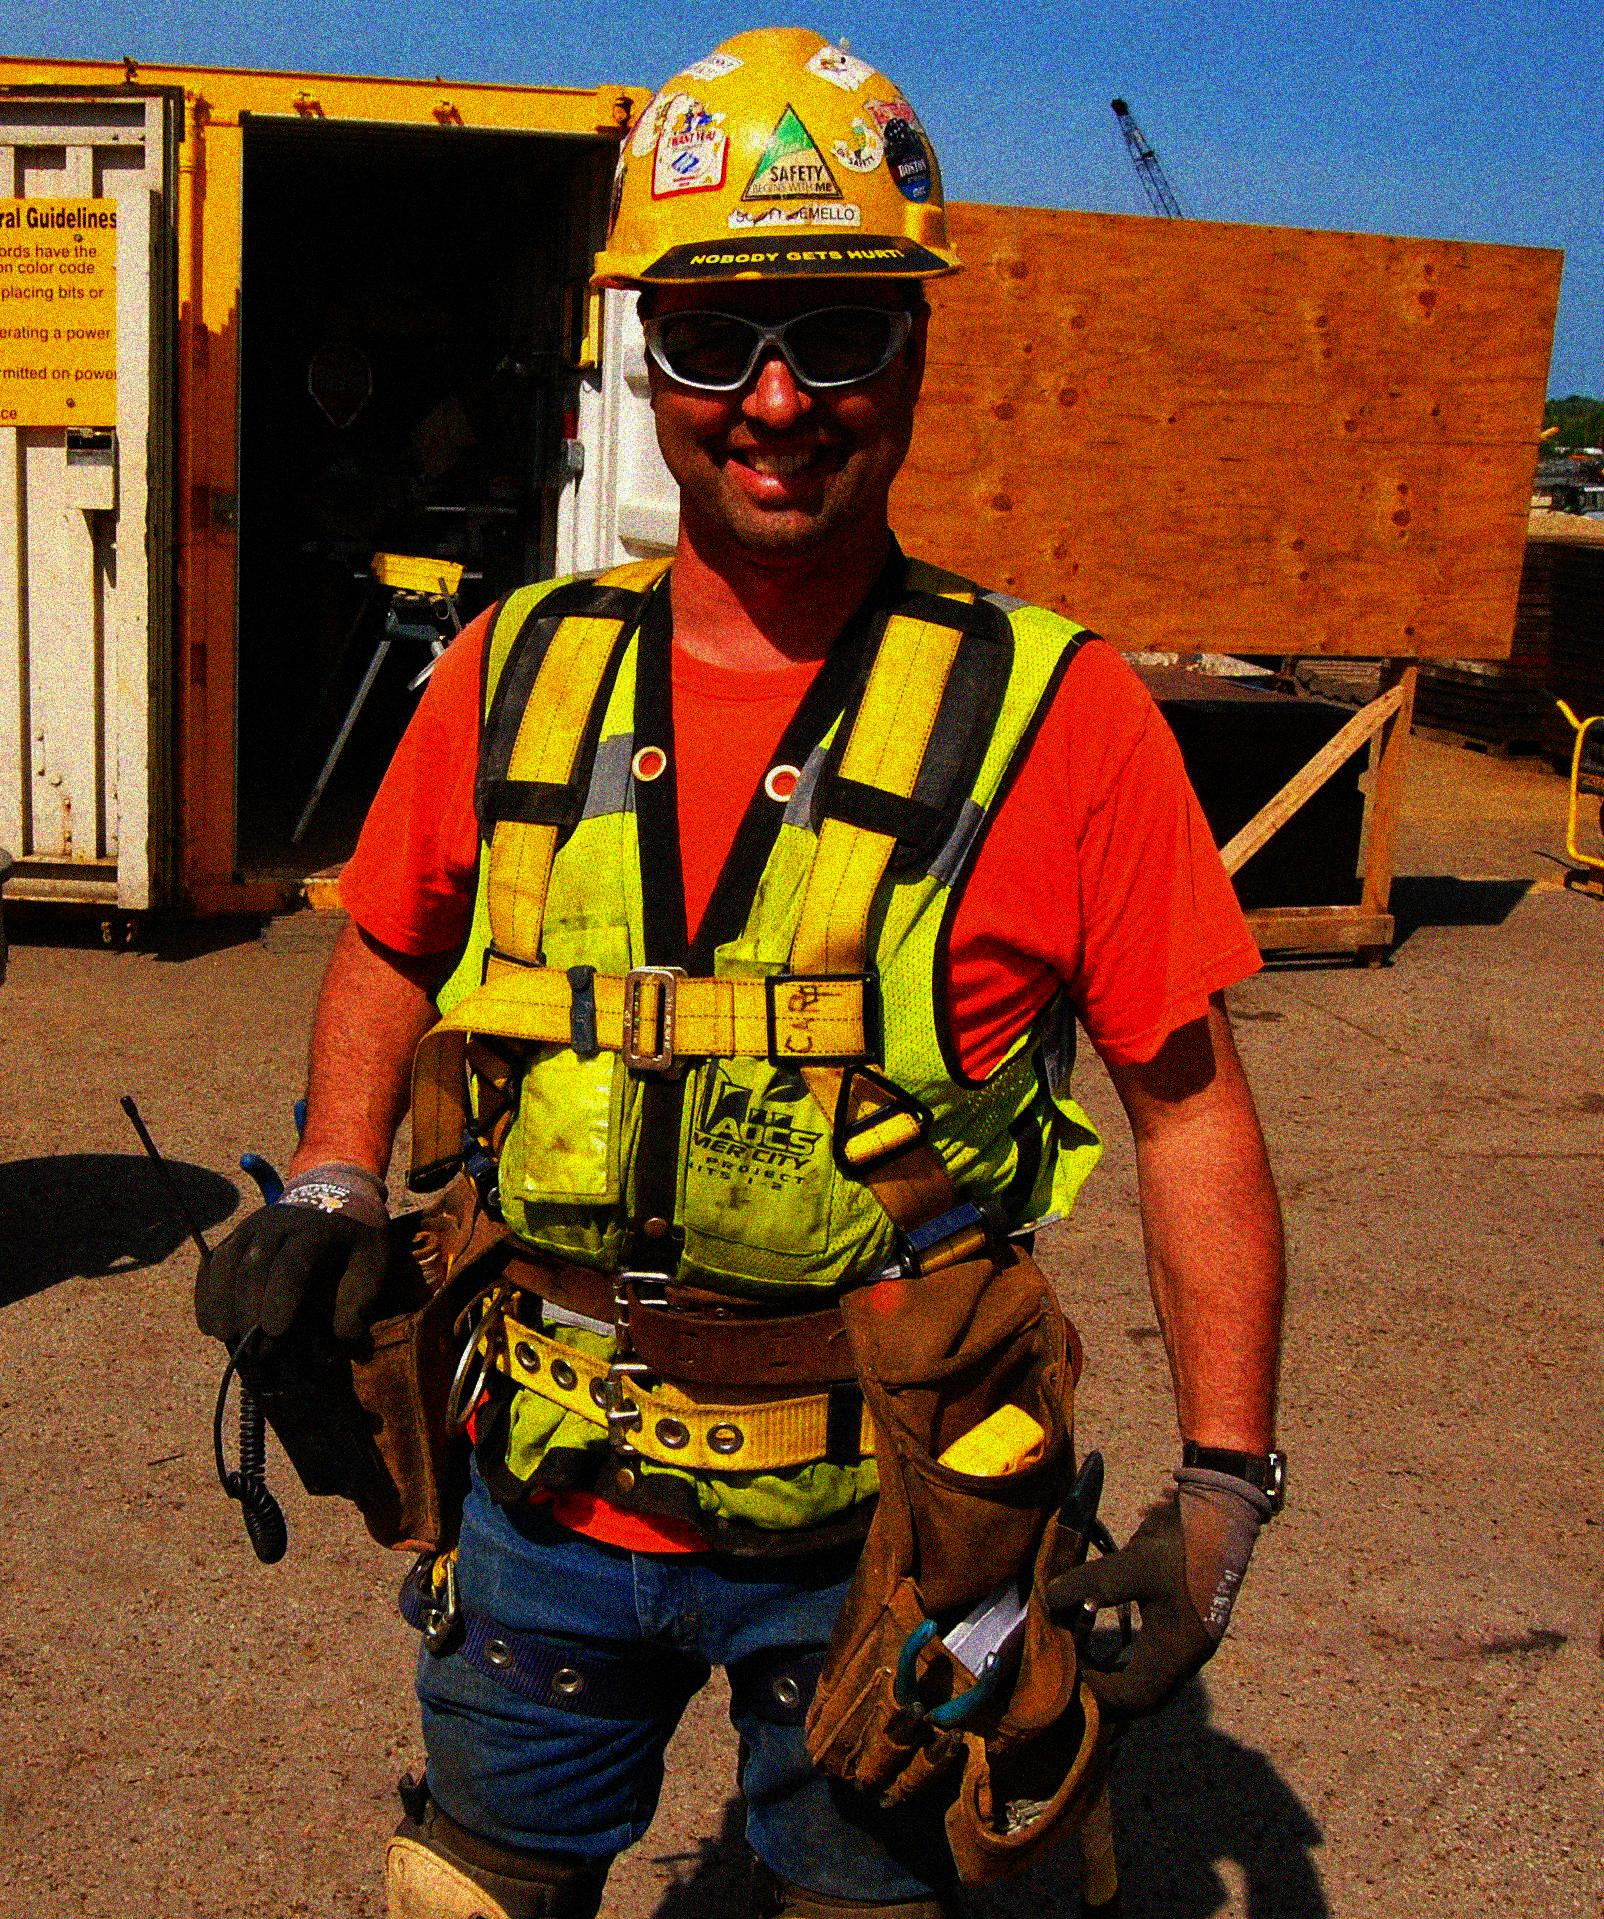helmet: (592, 13, 961, 540)
